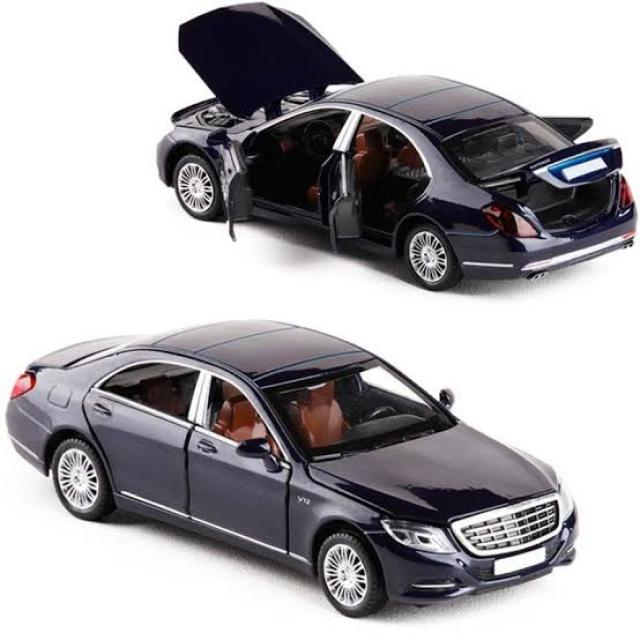Car: (5, 318, 580, 618), (155, 0, 638, 291)
